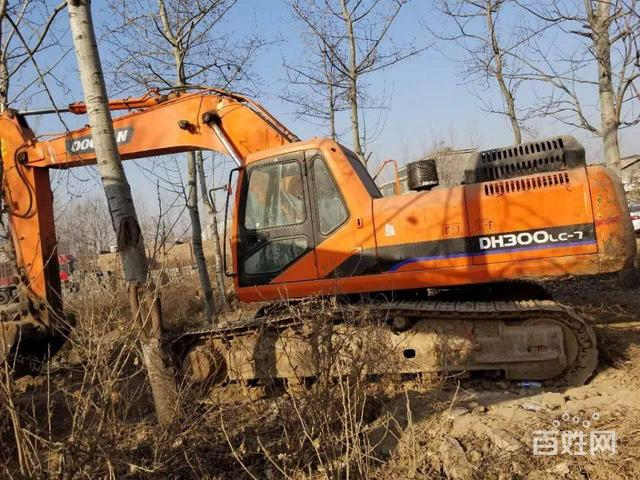excavator: (1, 96, 640, 400)
